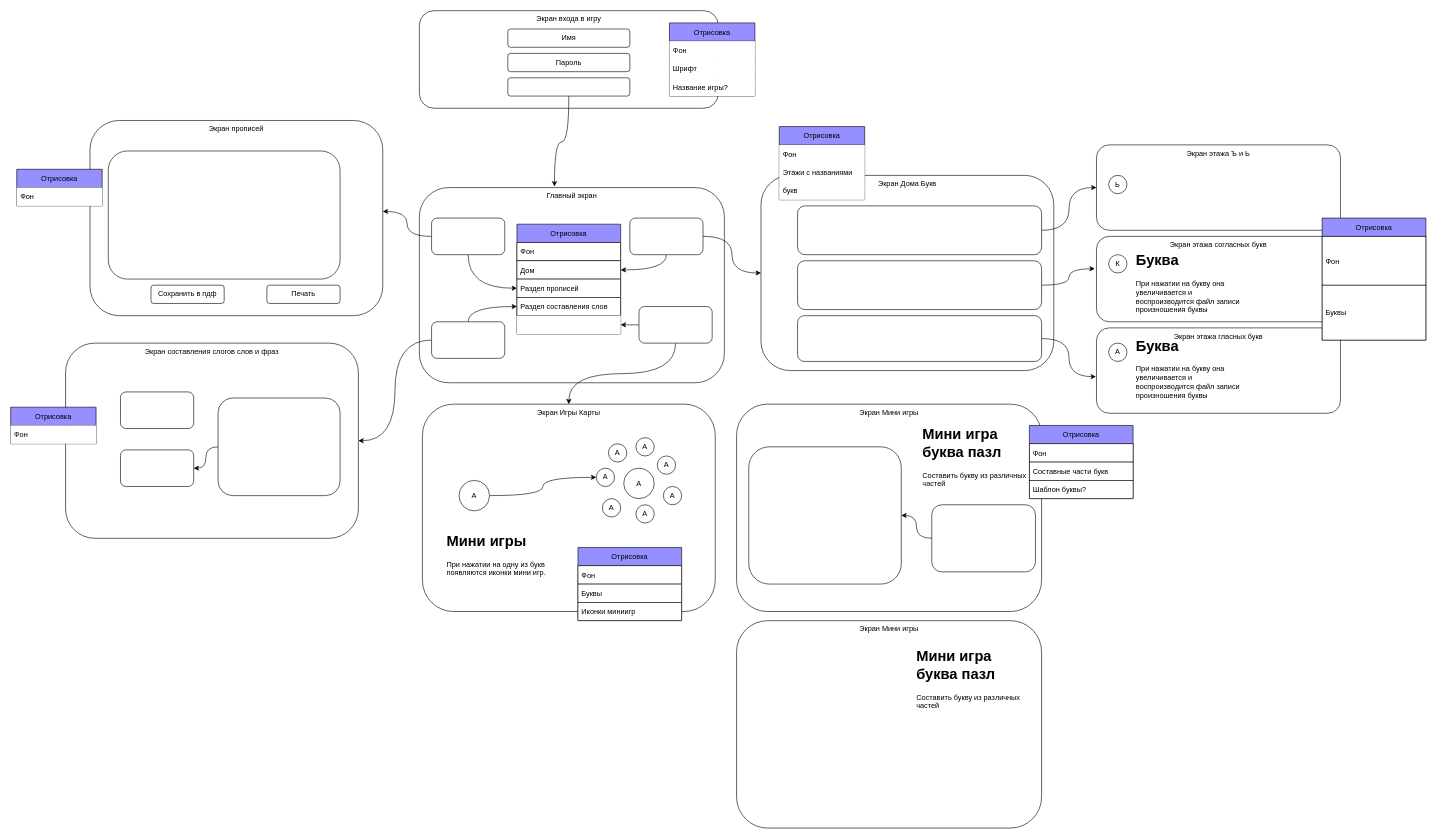
The diagram is 1437 pixels wide and 839 high, and some of its shapes have lost their labels. Each missing label, with the centre of its shape:
Вход: [568,86]
ДОМ БУКВ: [666,236]
ИГРА КАРТА: [675,324]
Картинка со сголом (словом, фразой): [157,410]
Показ прописей с возможностью перелистывать: [224,214]
Поле выбора букв: [278,446]
Поле составления слогов (слов, фраз) из букв: [157,467]
Прописи: [468,236]
Раздел игры: [568,324]
Составление слогов слов фраз: [468,339]
Составные части: [983,538]
Шаблон буквы: [824,515]
Этаж гласных: [919,338]
Этаж согласных: [919,285]
Этаж Ь и Ъ: [919,230]
